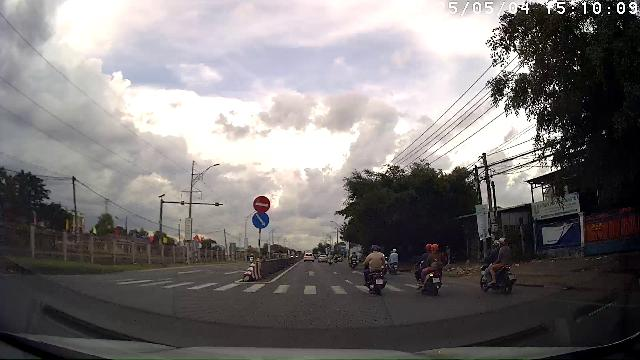102-cam-di-nguoc-chieu: (253, 195, 270, 211)
302a-huong-phai-di-vong-chuong-ngai-vat-1: (252, 212, 270, 228)
